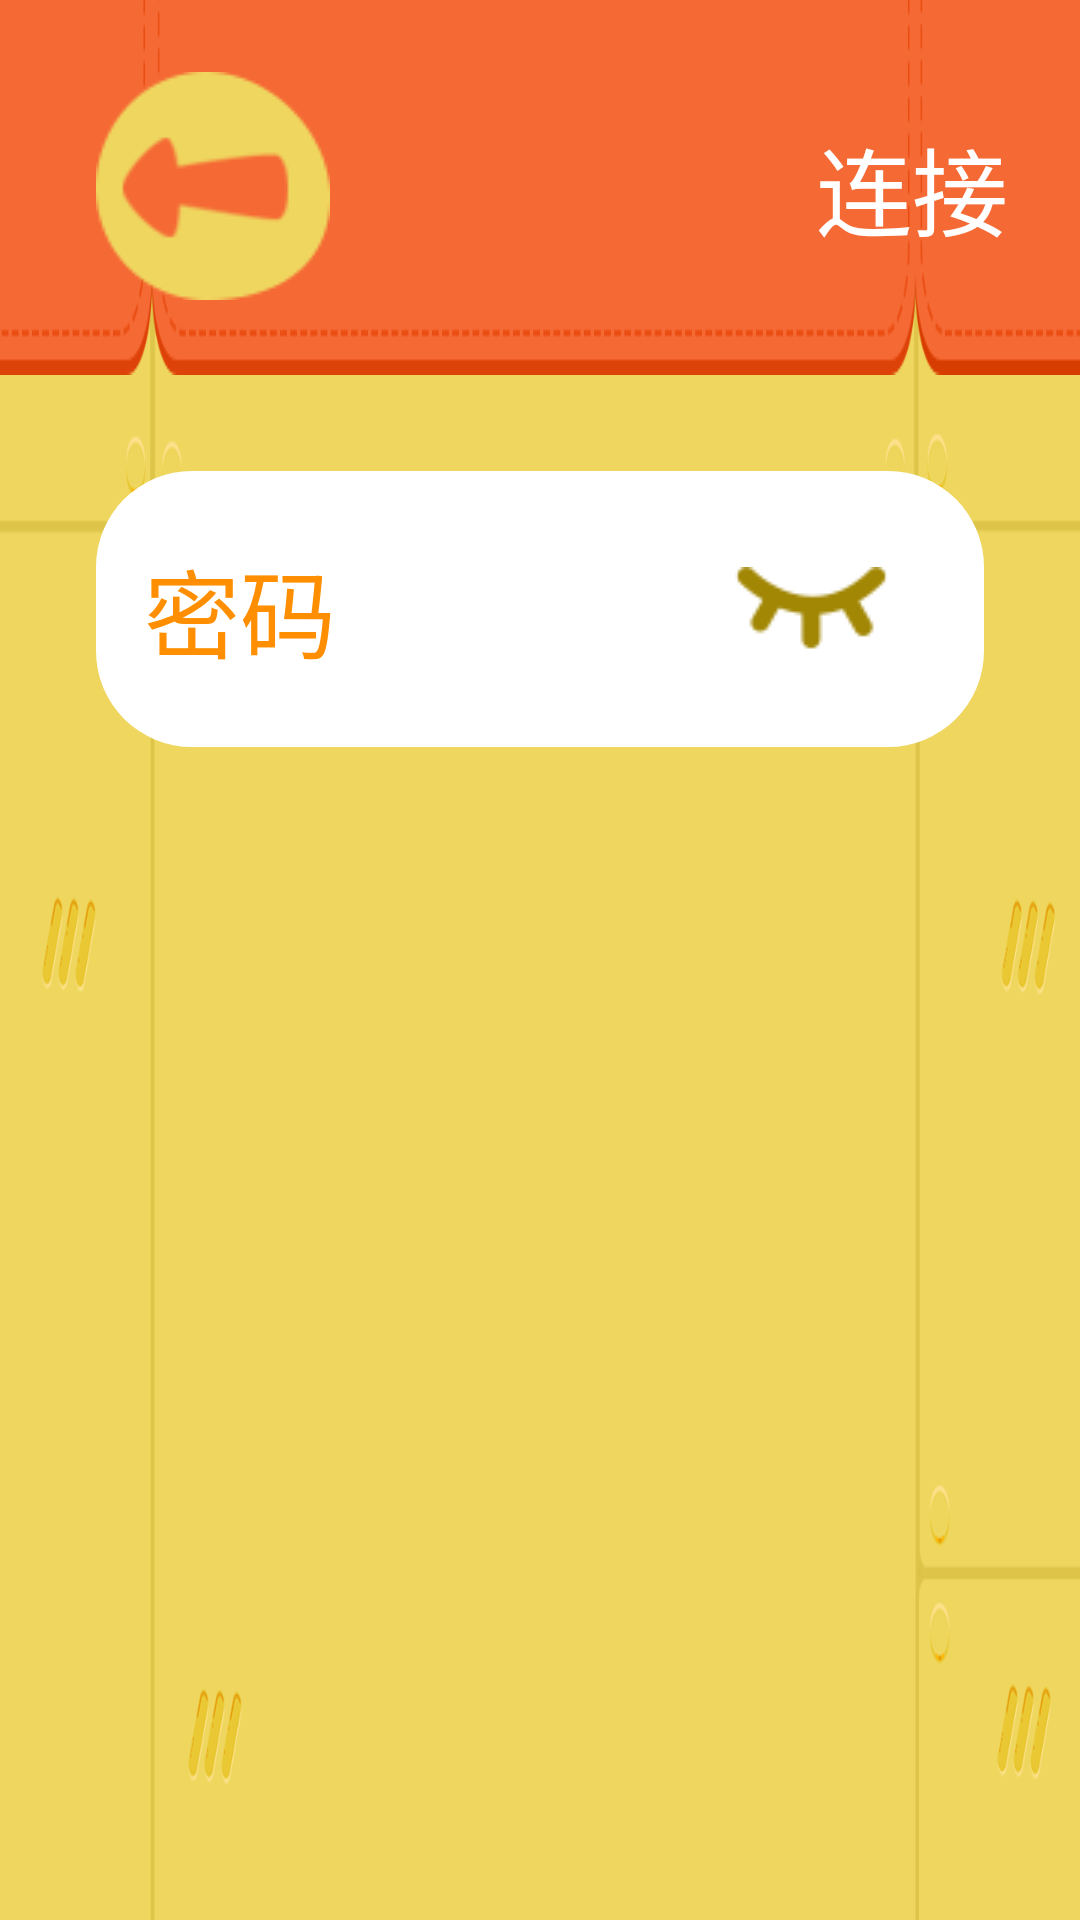

Icons on this 1080×1920 Android screen, each with the point to tap as (x,y):
guide back: (215,181)
